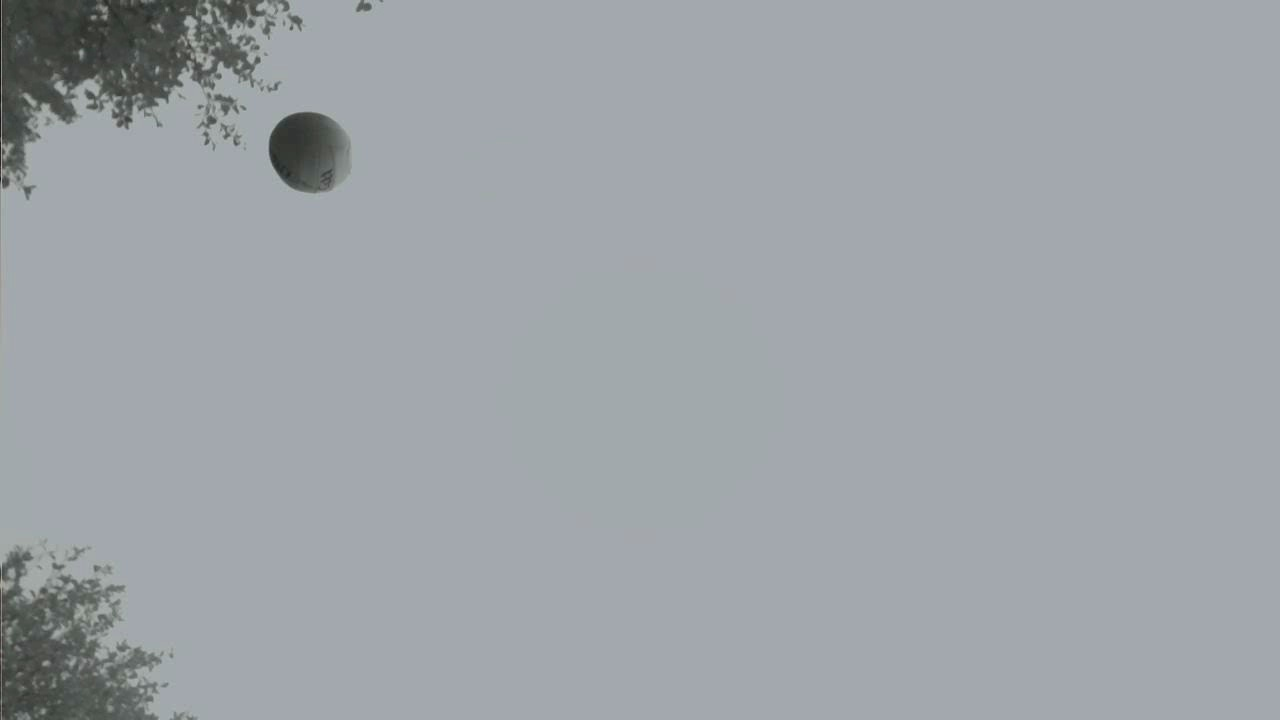Football-Spotter: (270, 112, 350, 191)
